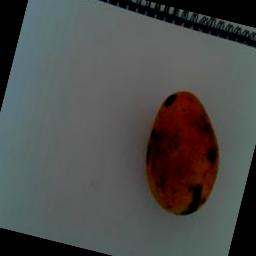Mango Overripe: (124, 80, 239, 233)
